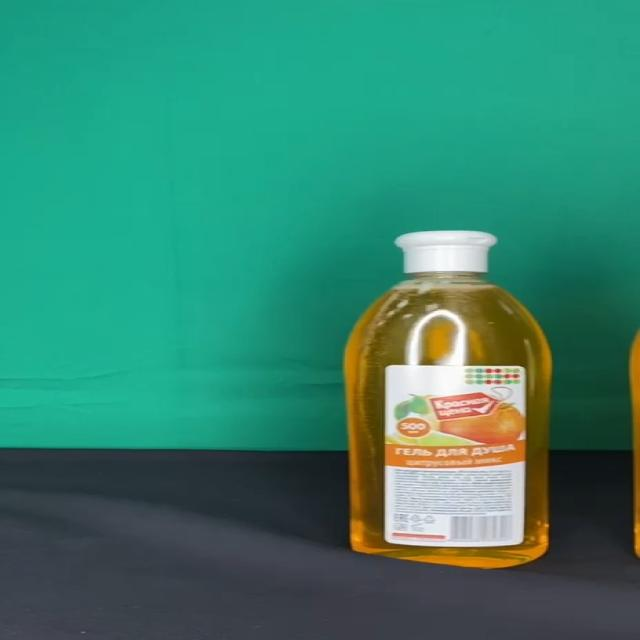Bottle: (342, 230, 552, 569)
Cap: (393, 231, 498, 272)
